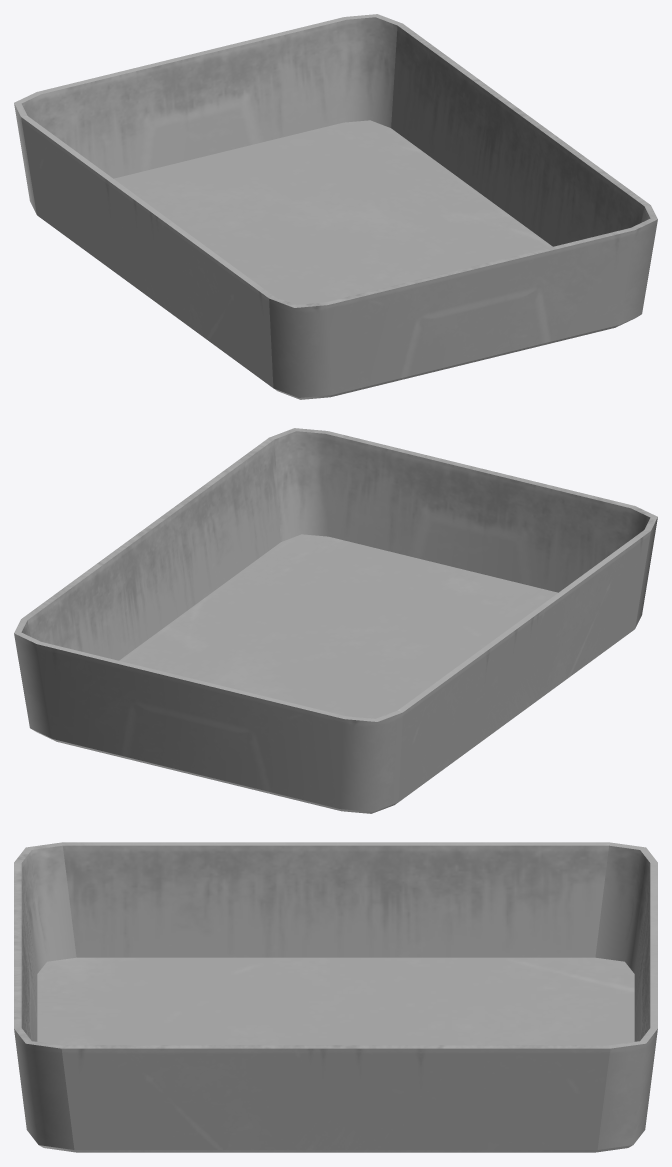
Rendered from GarageBoxSmallEmpty.FBX.
3 renders of one model, top to bottom at view 1: azimuth 30°, elevation 25°; view 2: azimuth 150°, elevation 25°; view 3: azimuth 270°, elevation 25°, orthographic. The views are drawn at different scales.
Visible parts, largest first — view 1: GarageBoxSmallEmpty; view 2: GarageBoxSmallEmpty; view 3: GarageBoxSmallEmpty.
Boxes of the visible parts, <box> form: GarageBoxSmallEmpty: <box>14,14,657,399</box>; GarageBoxSmallEmpty: <box>14,428,657,813</box>; GarageBoxSmallEmpty: <box>14,842,657,1152</box>.
Bounding box in the file's own units: 35.08 × 8.88 × 46.31.
